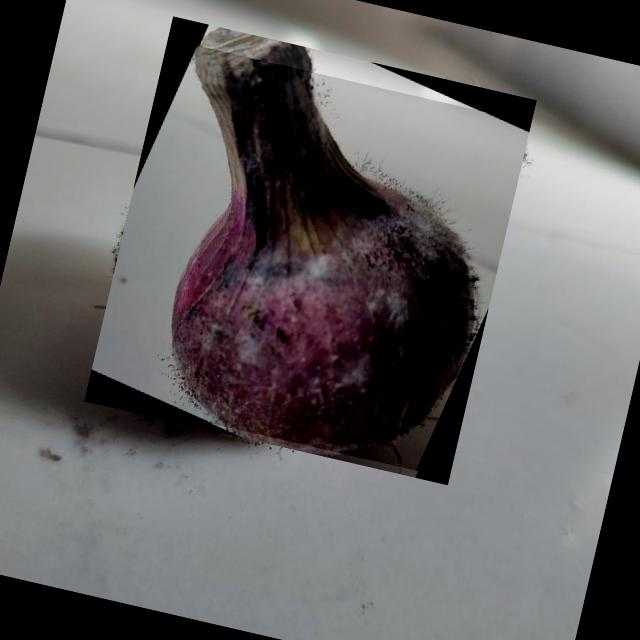mould: (109, 112, 525, 434)
rotten: (179, 28, 482, 453)
